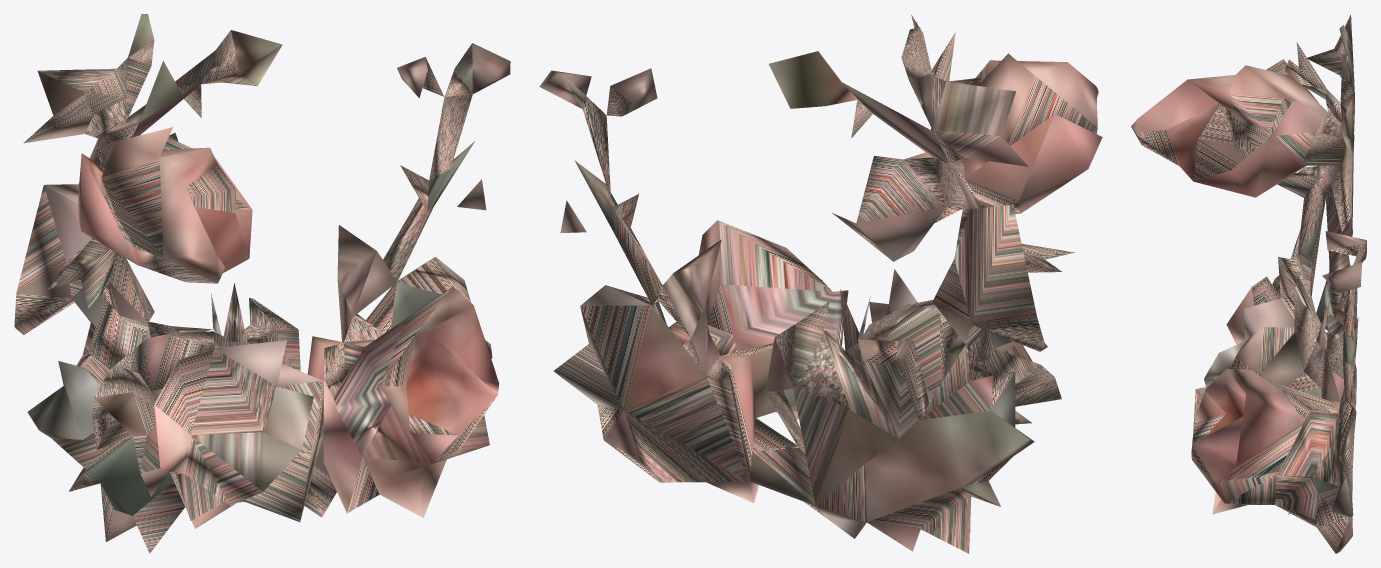
The picture shows the model from 3 angles, left to right: view 1: azimuth 30°, elevation 25°; view 2: azimuth 150°, elevation 25°; view 3: azimuth 270°, elevation 25°; orthographic projection. The views are drawn at different scales.
Visible parts, largest first — view 1: Rose-Spray-9-24; view 2: Rose-Spray-9-24; view 3: Rose-Spray-9-24.
Boxes of the visible parts, box(x1,y1,x2,y2) form: Rose-Spray-9-24: box(14, 14, 510, 553); Rose-Spray-9-24: box(539, 15, 1102, 553); Rose-Spray-9-24: box(1131, 14, 1366, 553).
Bounding box in the file's own units: 0.2392 × 0.2416 × 0.1206.
1 material, 1 textured.
